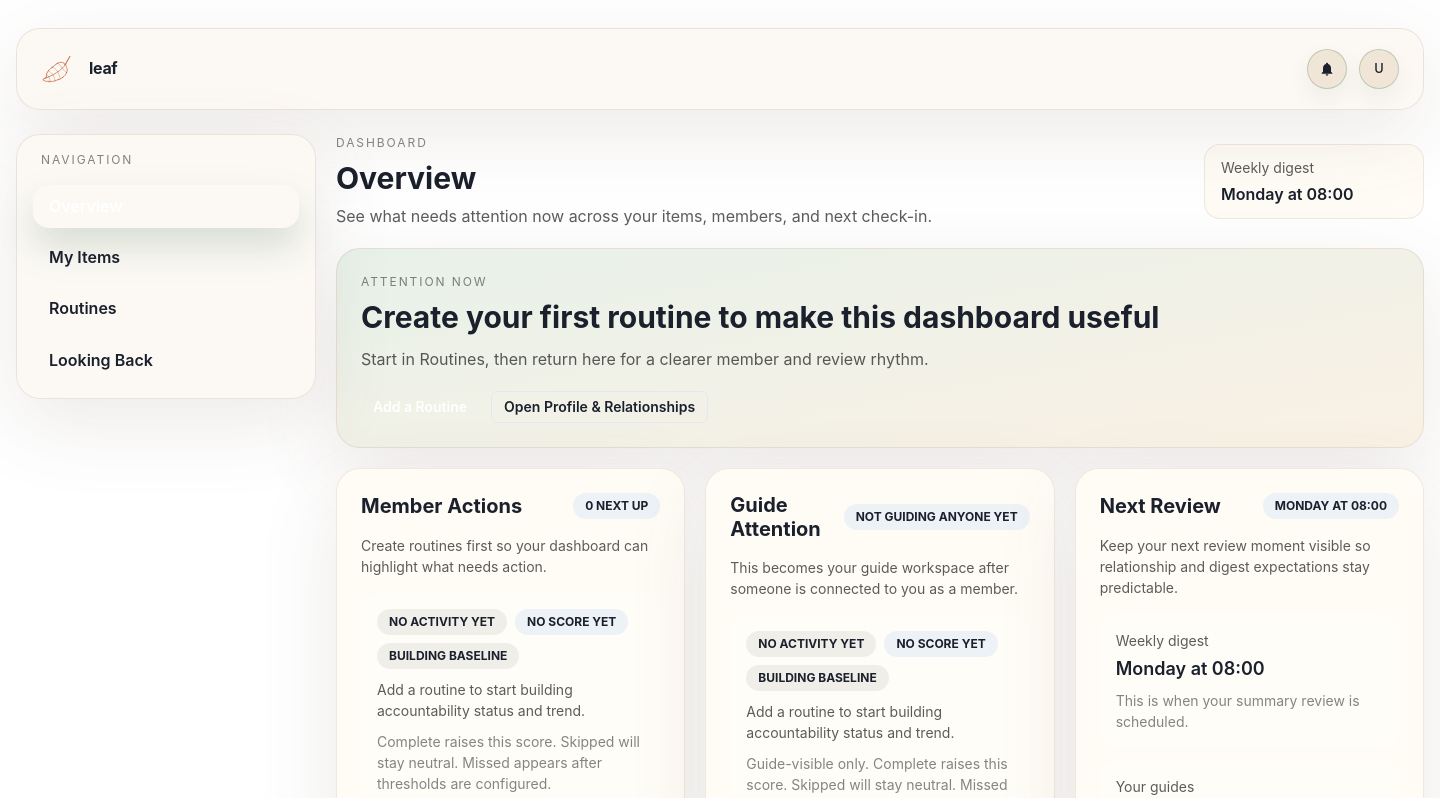
Scenario: App routes › enters account mode from the user menu and offers a return path
The image size is (1440, 798).
Click the button named "Open account menu" at (1379, 69), box [1359, 49, 1399, 89]
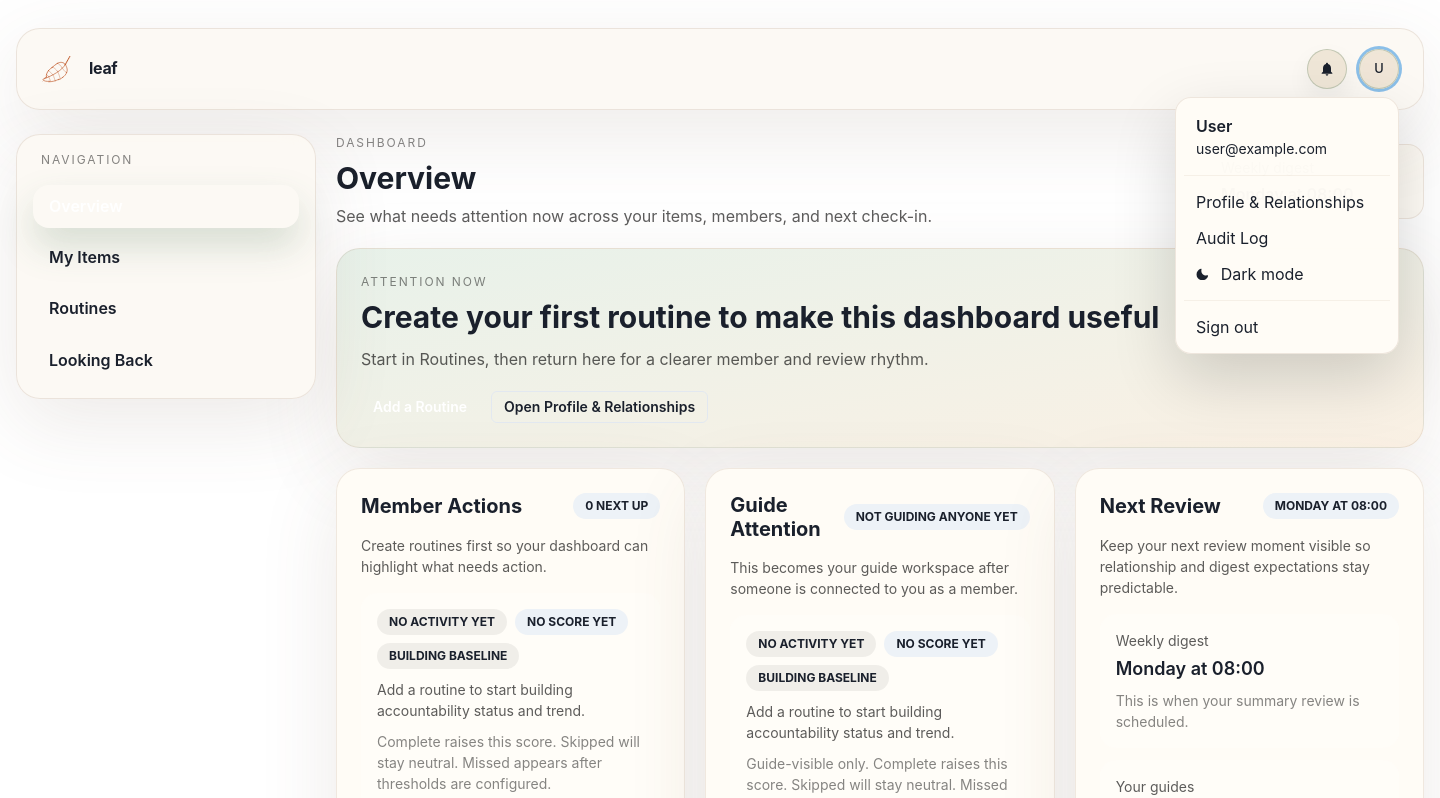
Click the menu item "Profile & Relationships" at (1280, 202), box [1196, 192, 1364, 212]
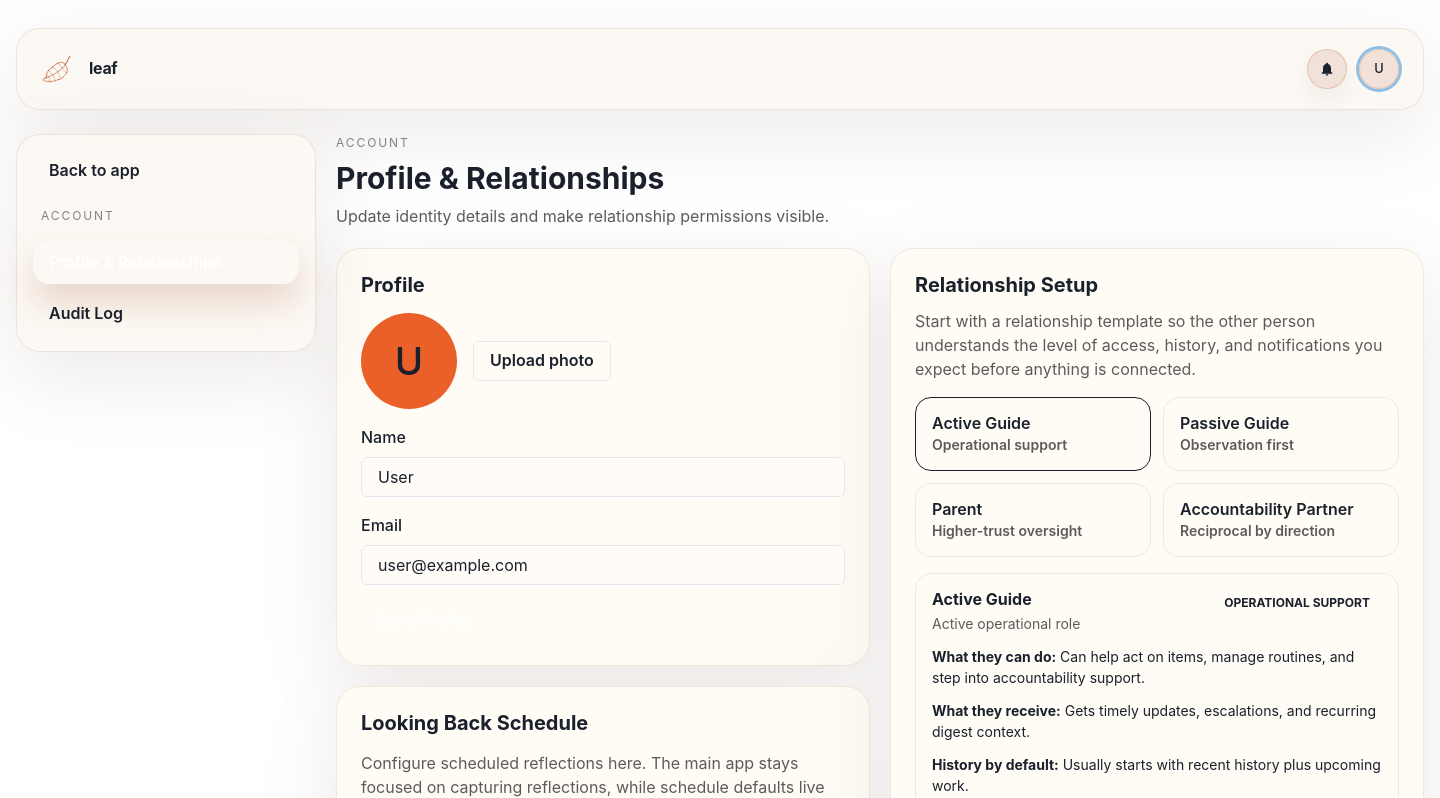
Result: the heading "Profile & Relationships" is shown at [336, 160, 664, 196]
Result: the link "Back to app" is shown at [49, 160, 140, 180]
